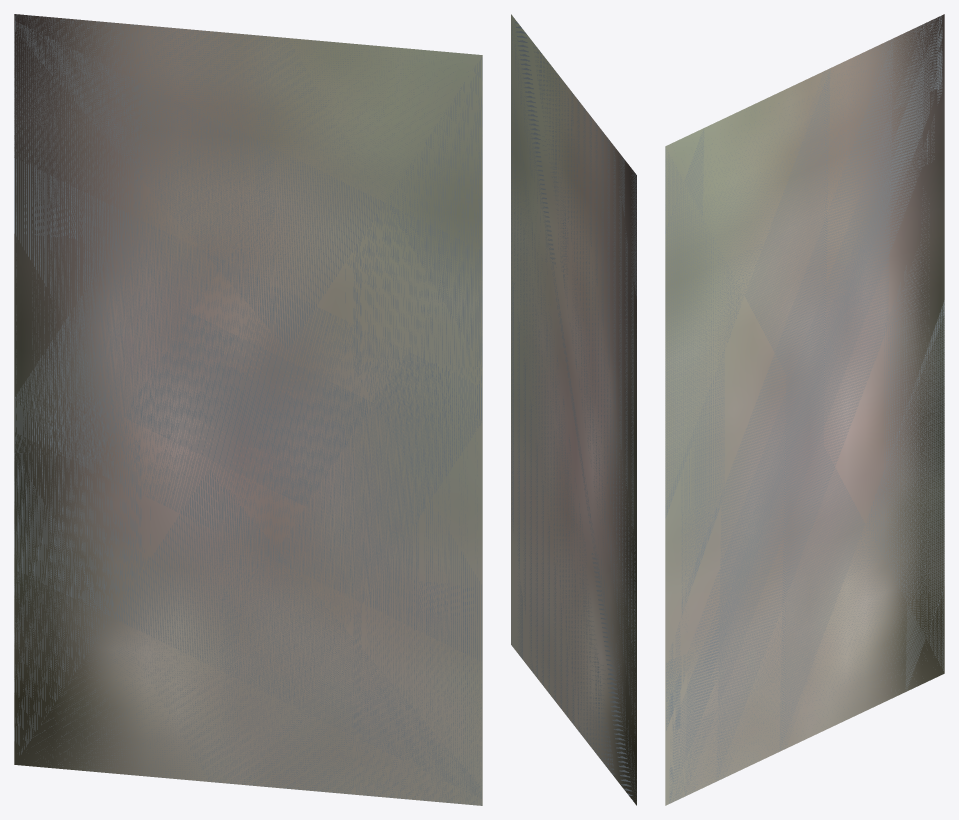
The model's file is 西庸城堡496.dae.
3 renders of one model, left to right at view 1: azimuth 30°, elevation 25°; view 2: azimuth 150°, elevation 25°; view 3: azimuth 270°, elevation 25°, orthographic. The views are drawn at different scales.
Visible parts, largest first — view 1: SketchUp; view 2: SketchUp; view 3: SketchUp.
Part boxes in pixels (bbox=[...]): SketchUp: bbox=[14, 14, 482, 805]; SketchUp: bbox=[511, 14, 636, 805]; SketchUp: bbox=[665, 14, 944, 805].
Bounding box in the file's own units: 22.03 × 19.66 × 51.18.
